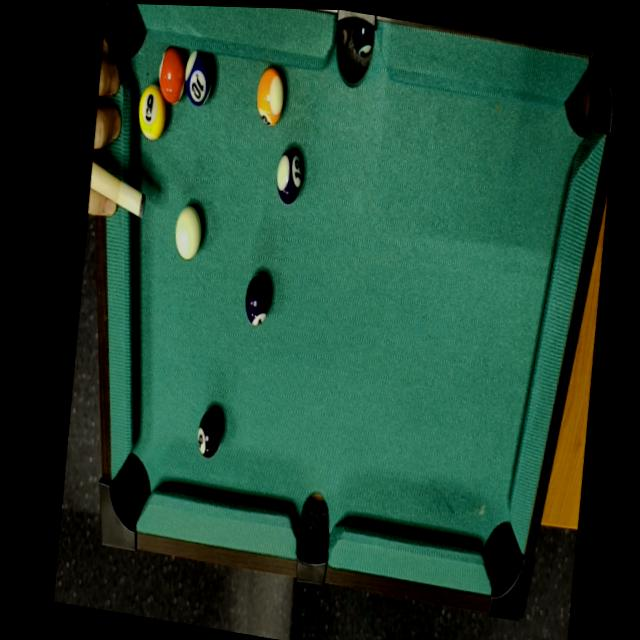cue ball: (168, 202, 209, 265)
other: (150, 38, 196, 109), (175, 40, 221, 110), (250, 59, 293, 130), (268, 139, 311, 209), (131, 82, 172, 143), (238, 270, 275, 332), (191, 407, 225, 464)
